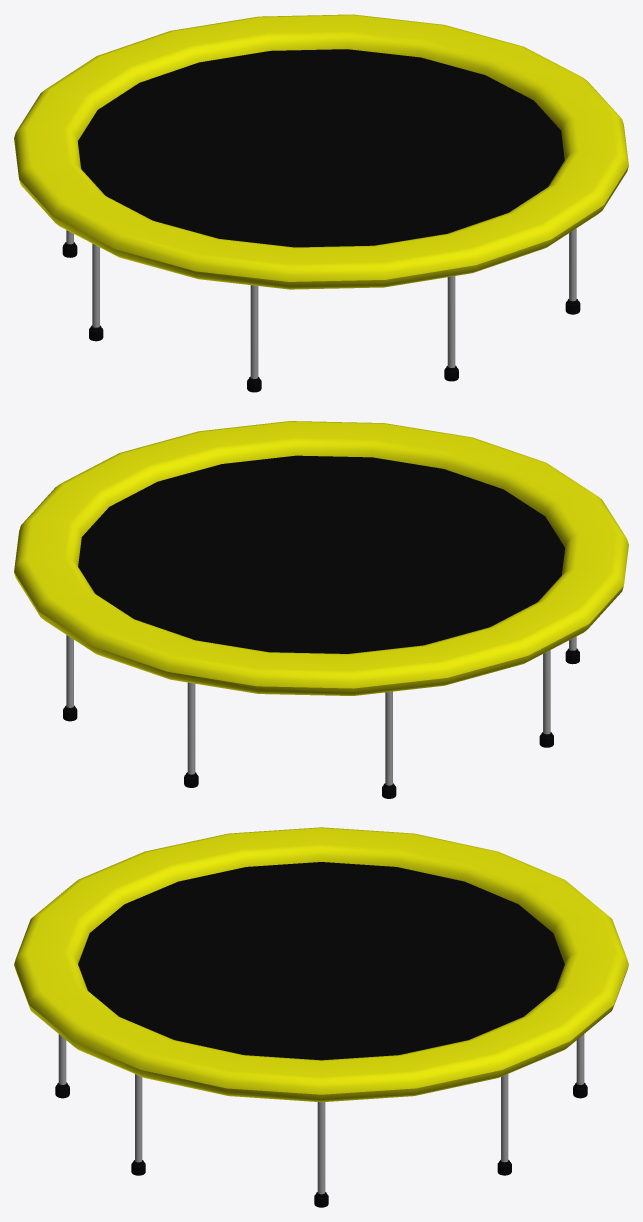
Rendered from Trambolin1.fbx.
3 renders of one model, top to bottom at view 1: azimuth 30°, elevation 25°; view 2: azimuth 150°, elevation 25°; view 3: azimuth 270°, elevation 25°, orthographic.
Parts seen in each view (by area): view 1: Trambolin; view 2: Trambolin; view 3: Trambolin.
Part boxes in pixels (bbox=[...]): Trambolin: bbox=[14, 14, 628, 392]; Trambolin: bbox=[14, 421, 628, 798]; Trambolin: bbox=[14, 827, 628, 1207].
Size of the model in its own units: 146 by 37.55 by 146.
